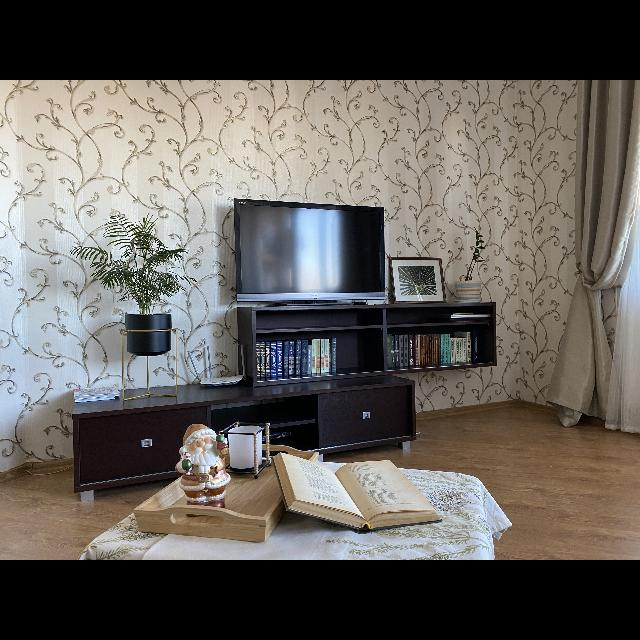Flat-Panel-TV: (226, 202, 384, 304)
